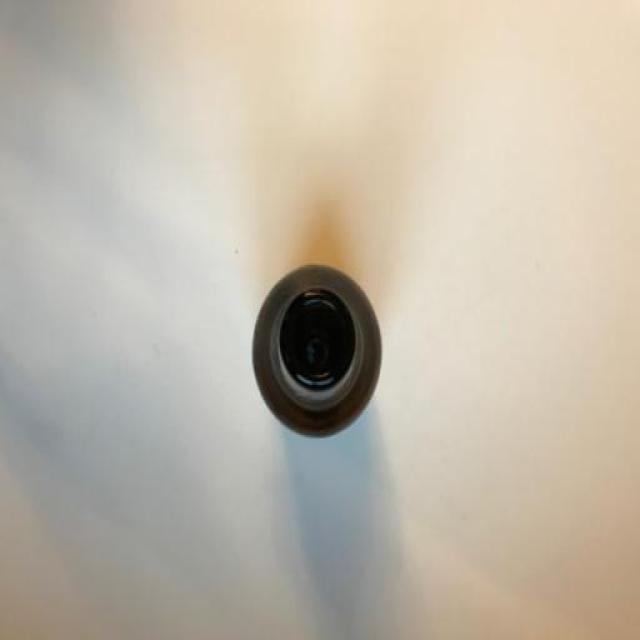glass: (250, 260, 380, 442)
